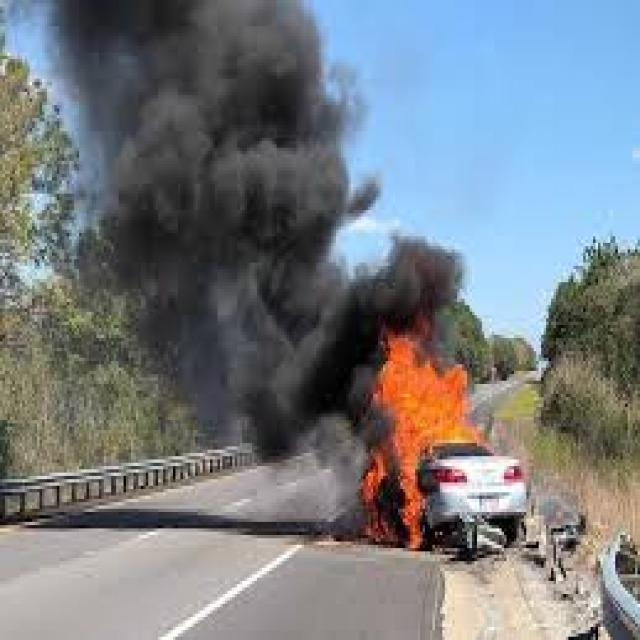fire: (371, 335, 489, 551)
smoke: (45, 3, 467, 335), (121, 302, 373, 541)
